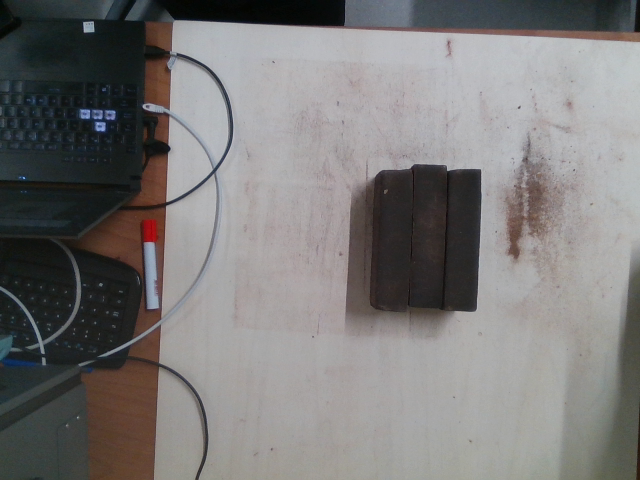brick-side: (377, 170, 414, 311), (411, 164, 447, 306), (446, 169, 482, 310)
